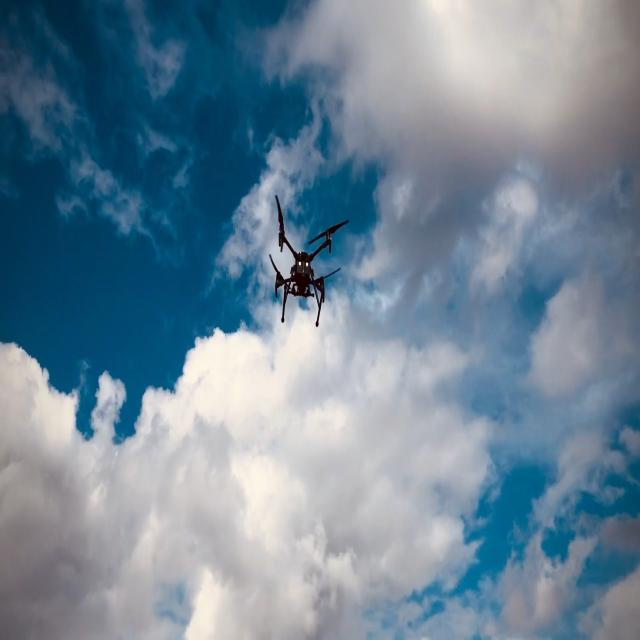drone: (268, 193, 349, 327)
